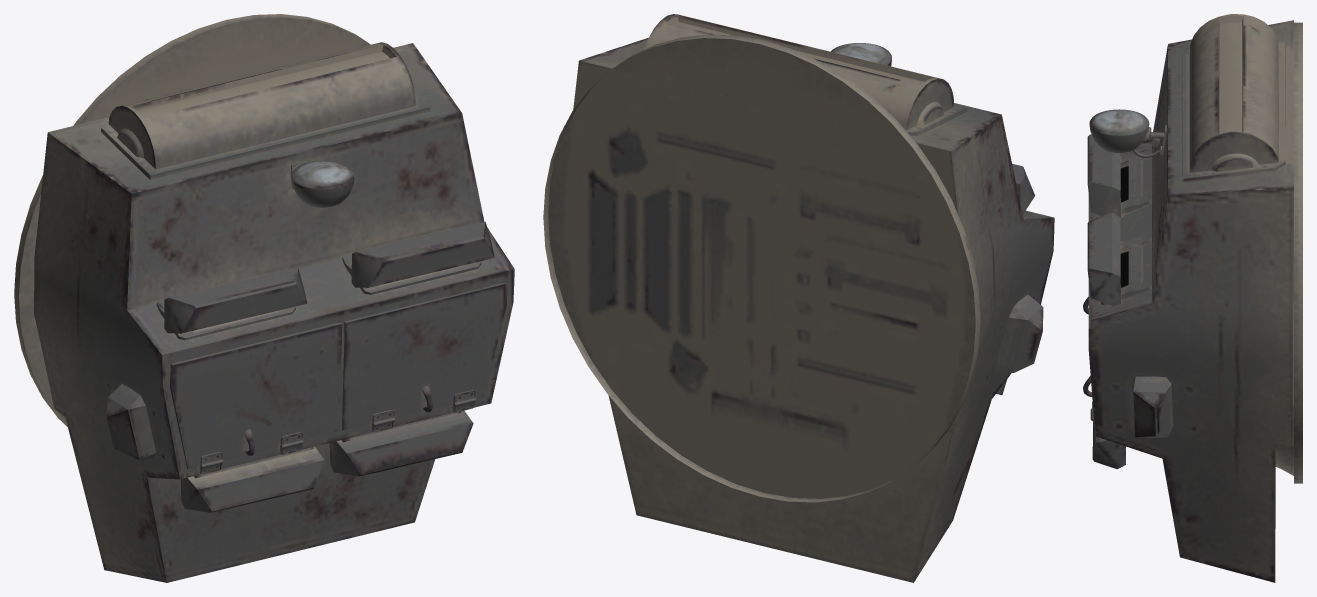
File: Turret_02.glb
The picture shows the model from 3 angles, left to right: view 1: azimuth 30°, elevation 25°; view 2: azimuth 150°, elevation 25°; view 3: azimuth 270°, elevation 25°; orthographic projection. The views are drawn at different scales.
Parts seen in each view (by area): view 1: set_0_group_0; view 2: set_0_group_0; view 3: set_0_group_0.
Part boxes in pixels (box(x1,y1,x2,y2)): set_0_group_0: box(14, 14, 514, 582); set_0_group_0: box(543, 14, 1054, 582); set_0_group_0: box(1083, 14, 1302, 582).
Bounding box in the file's own units: 1.38 × 1.57 × 0.6565.
Materials: 1 (1 with a texture image).
